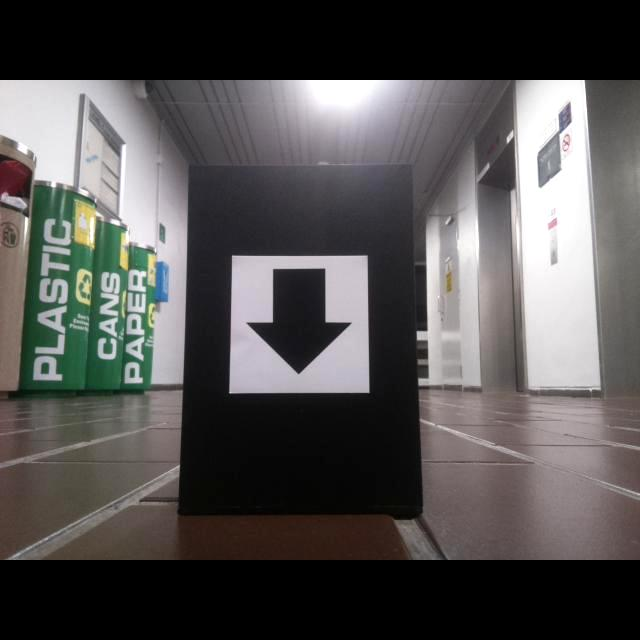DOWN: (244, 267, 354, 376)
